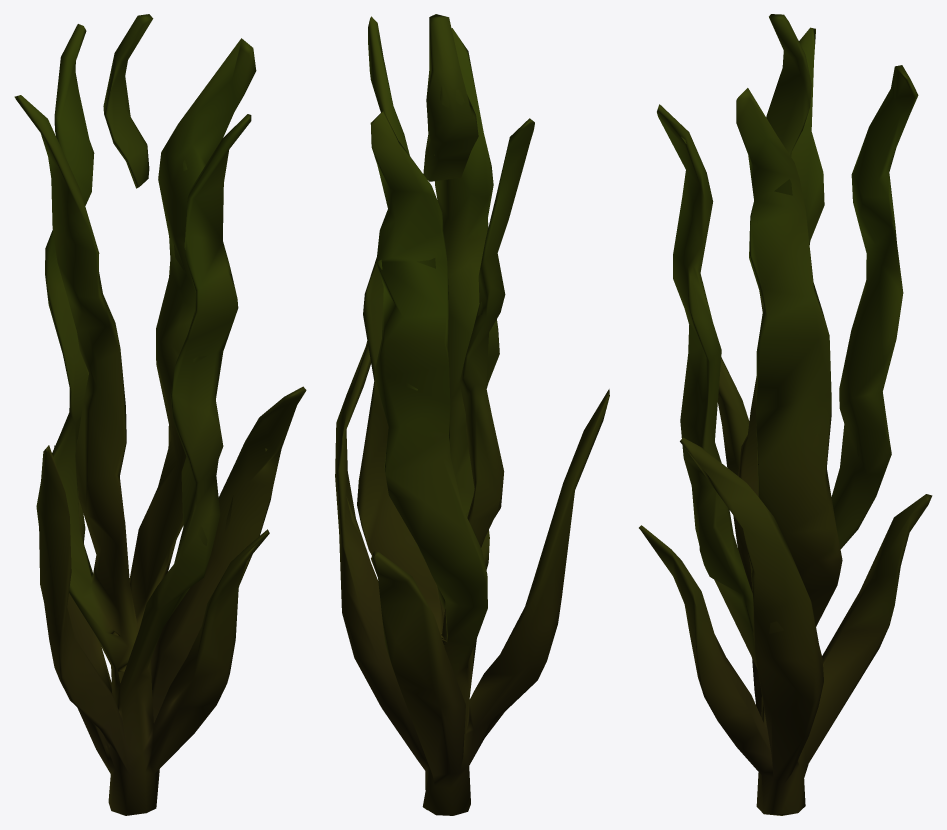
The model's file is gen3d-kelp-lod1.glb.
The picture shows the model from 3 angles, left to right: view 1: azimuth 30°, elevation 25°; view 2: azimuth 150°, elevation 25°; view 3: azimuth 270°, elevation 25°; orthographic projection.
Visible parts, largest first — view 1: part_0; view 2: part_0; view 3: part_0.
Part boxes in pixels (x1,y1,x2,y2): part_0: (14, 14, 306, 815); part_0: (335, 14, 609, 815); part_0: (639, 14, 932, 815).
Size of the model in its own units: 0.3386 by 0.9974 by 0.334.
